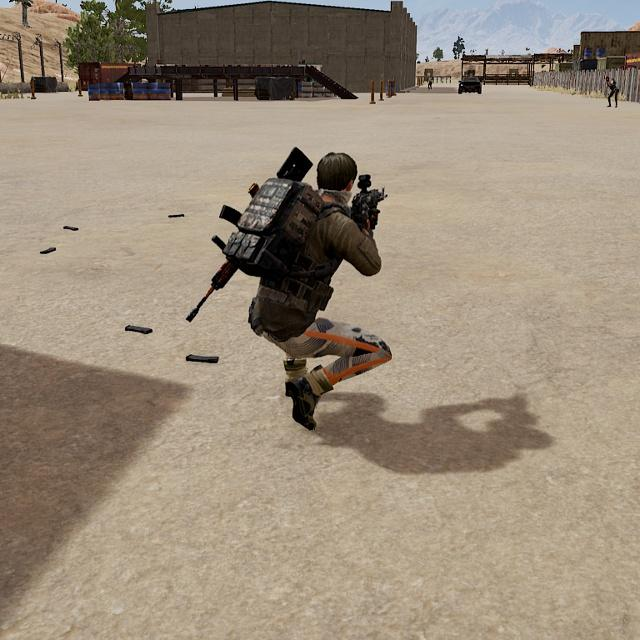head: (314, 150, 360, 206), (605, 74, 611, 82)
people: (226, 144, 396, 433), (603, 74, 623, 109)
